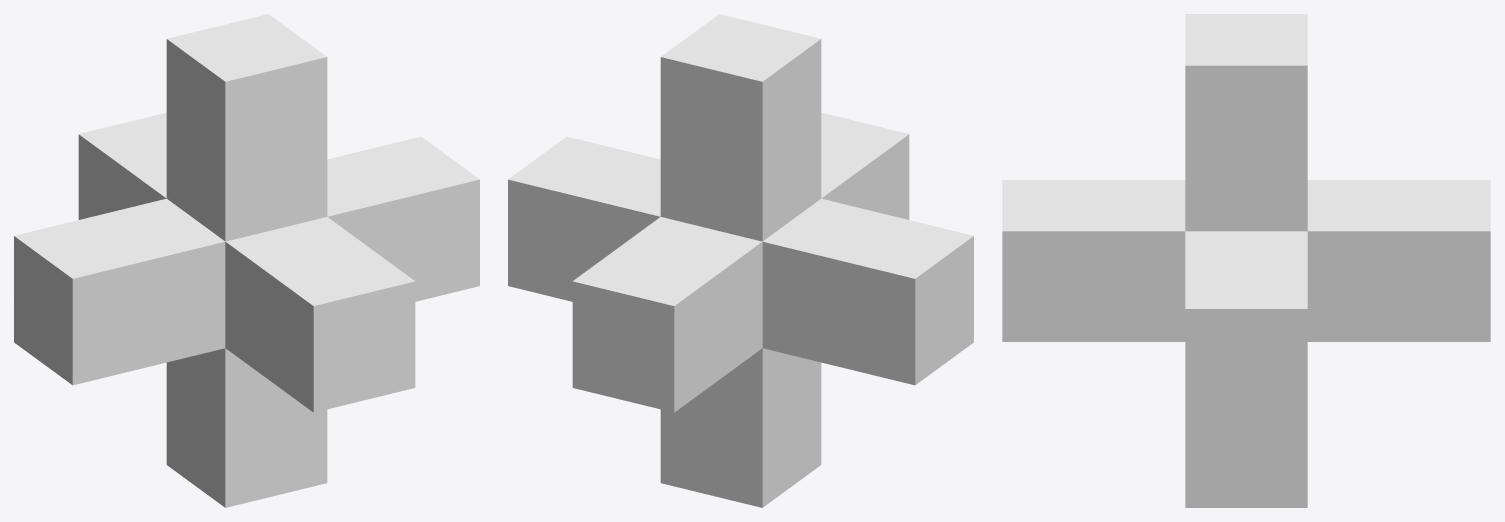
File: cross.fbx
3 renders of one model, left to right at view 1: azimuth 30°, elevation 25°; view 2: azimuth 150°, elevation 25°; view 3: azimuth 270°, elevation 25°, orthographic. The views are drawn at different scales.
Visible parts, largest first — view 1: cross; view 2: cross; view 3: cross.
Part boxes in pixels (left/top/right/bottom): cross: left=14, top=14, right=479, bottom=507; cross: left=508, top=14, right=973, bottom=507; cross: left=1002, top=14, right=1490, bottom=507.
Size of the model in its own units: 14.28 by 14.28 by 14.28.
1 material, 1 textured.
